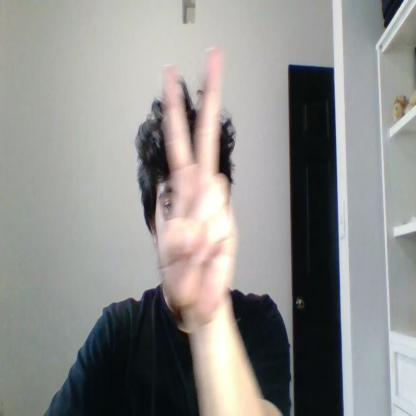V: (160, 46, 238, 324)
